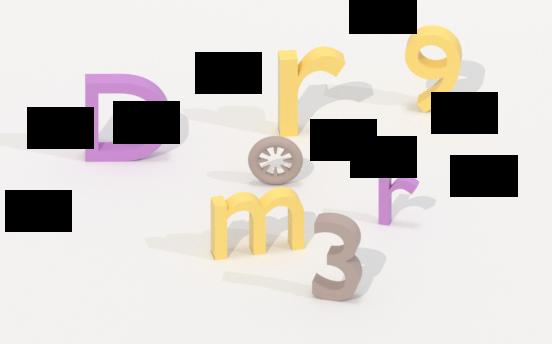3: (310, 210, 364, 304)
9: (404, 23, 465, 115)
R: (274, 44, 349, 140), (377, 169, 420, 228)
d: (83, 72, 173, 165)
m: (208, 185, 307, 262)
tron: (246, 133, 304, 187)
